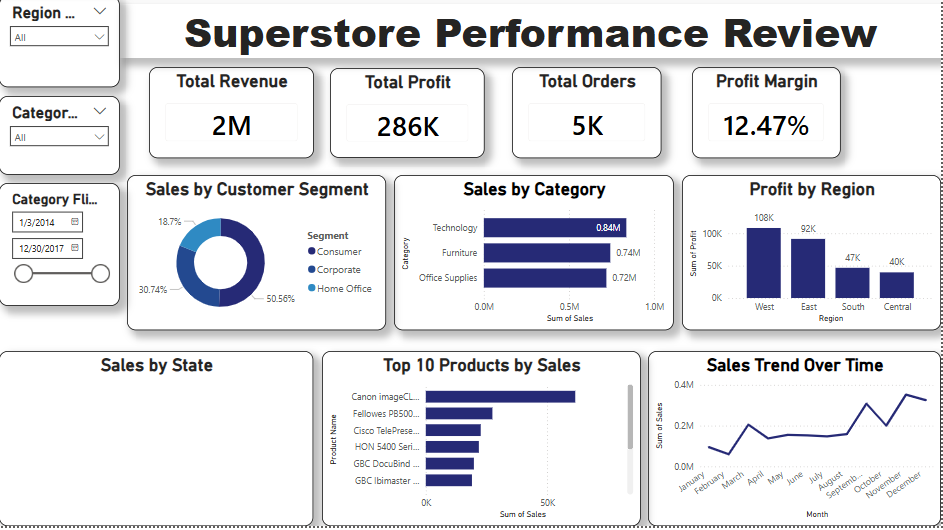

This screenshot's page, from the dashboard's own definition file:
{"tool":"powerbi","page":{"name":"Page 1","canvas":[1280,720],"ordinal":0},"visuals":[{"type":"cardVisual","title":"Total Revenue","fields":{"Data":["Sum(Sample - Superstore.Sales)"]},"box":[203.1,96,224,123.8],"z":0},{"type":"cardVisual","title":"Total Profit","fields":{"Data":["Sum(Sample - Superstore.Profit)"]},"box":[449.4,97.4,210.1,122.4],"z":1000},{"type":"cardVisual","title":"Total Orders","fields":{"Data":["Count(Sample - Superstore.Order ID)"]},"box":[697,96,203.1,123.8],"z":2000},{"type":"cardVisual","title":"Profit Margin","fields":{"Data":["Sample - Superstore.Profit Margin"]},"box":[941.9,96,201.7,123.8],"z":3000},{"type":"lineChart","title":"Sales Trend Over Time","fields":{"Y":["Sum(Sample - Superstore.Sales)"],"Category":["Sample - Superstore.Order Date.Variation.Date Hierarchy.Year","Sample - Superstore.Order Date.Variation.Date Hierarchy.Quarter","Sample - Superstore.Order Date.Variation.Date Hierarchy.Month","Sample - Superstore.Order Date.Variation.Date Hierarchy.Day"]},"box":[882.1,482.8,397.9,237.9],"z":4000},{"type":"clusteredBarChart","title":"Sales by Category","fields":{"Category":["Sample - Superstore.Category"],"Y":["Sum(Sample - Superstore.Sales)"]},"box":[537,243.5,379.8,211.5],"z":5000},{"type":"clusteredColumnChart","title":"Profit by Region","fields":{"Category":["Sample - Superstore.Region"],"Y":["Sum(Sample - Superstore.Profit)"]},"box":[928,243.5,352,211.5],"z":6000},{"type":"donutChart","title":"Sales by Customer Segment","fields":{"Category":["Sample - Superstore.Segment"],"Y":["Sum(Sample - Superstore.Sales)"]},"box":[173.9,243.5,352,211.5],"z":7000},{"type":"map","title":"Sales by State","fields":{"Category":["Sample - Superstore.Country","Sample - Superstore.State"],"Size":["Sum(Sample - Superstore.Sales)","select"]},"box":[0,482.8,427.1,237.9],"z":8000},{"type":"clusteredBarChart","title":" Top 10 Products by Sales","fields":{"Category":["Sample - Superstore.Product Name"],"Y":["Sum(Sample - Superstore.Sales)"]},"box":[438.3,482.8,432.7,237.9],"z":9000},{"type":"slicer","fields":{"Values":["Sample - Superstore.Region"]},"box":[0,0,164.2,123.8],"z":10000},{"type":"slicer","fields":{"Values":["Sample - Superstore.Category"]},"box":[0,136.3,164.2,107.1],"z":11000},{"type":"slicer","fields":{"Values":["Sample - Superstore.Order Date"]},"box":[0,254.6,164.2,167],"z":12000},{"type":"textbox","title":"Superstore Performance Review","box":[164.2,11.1,1115.8,73.7],"z":13000}]}

Visuals, with their boxes in screenshot pixels (x1, y1, x2, y2), scaled from the page's 1280x720 canvas onto the 943x530 screenshot:
"Total Revenue" cardVisual: 150 71 315 162
"Total Profit" cardVisual: 331 72 486 162
"Total Orders" cardVisual: 513 71 663 162
"Profit Margin" cardVisual: 694 71 843 162
"Sales Trend Over Time" lineChart: 650 355 942 529
"Sales by Category" clusteredBarChart: 396 179 675 335
"Profit by Region" clusteredColumnChart: 684 179 942 335
"Sales by Customer Segment" donutChart: 128 179 387 335
"Sales by State" map: 0 355 315 529
" Top 10 Products by Sales" clusteredBarChart: 323 355 642 529
slicer - Sample - Superstore.Region: 0 0 121 91
slicer - Sample - Superstore.Category: 0 100 121 179
slicer - Sample - Superstore.Order Date: 0 187 121 310
"Superstore Performance Review" textbox: 121 8 942 62
